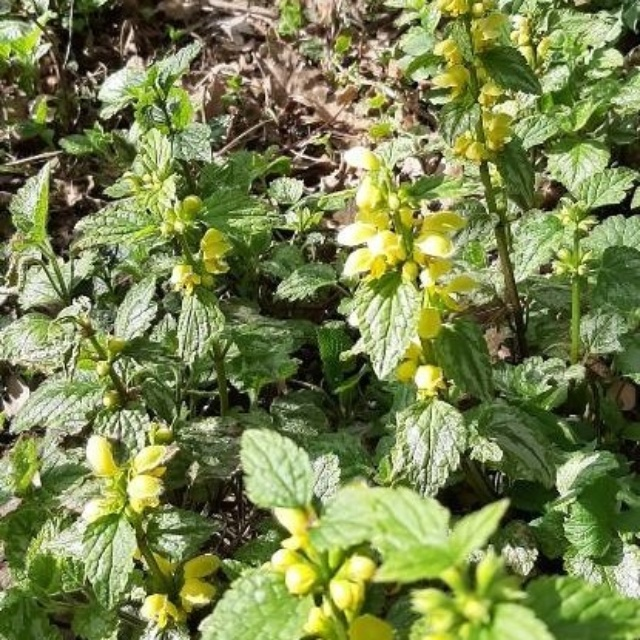obstacle: (267, 26, 586, 441), (117, 429, 515, 612), (83, 79, 271, 463)
